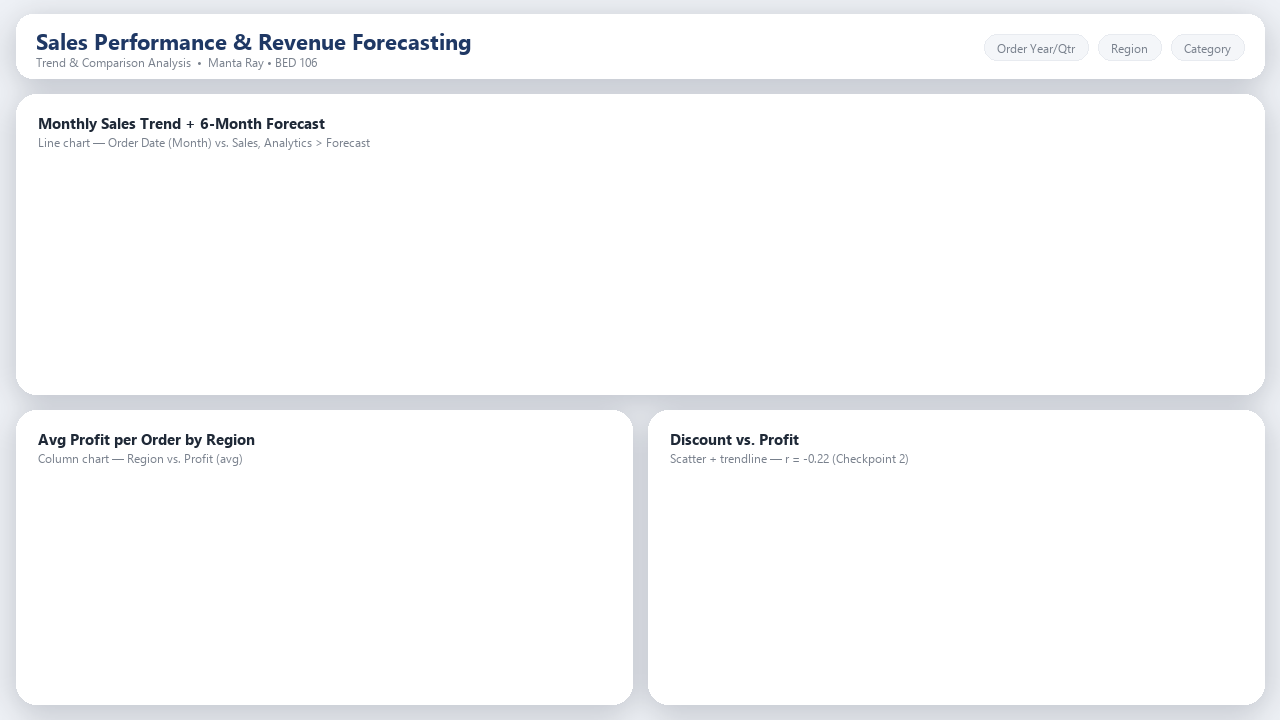

What the dashboard file says about the page in this screenshot:
{"tool":"powerbi","page":{"name":"Trend & Comparison","canvas":[1280,720],"ordinal":1},"visuals":[{"type":"lineChart","fields":{"Category":["Orders.MonthStart"],"Y":["Sum(Orders.Sales)"]},"box":[16.7,91.7,1246.7,303.3],"z":0},{"type":"clusteredColumnChart","fields":{"Category":["Orders.Region"],"Y":["Avg(Orders.Profit)"]},"box":[16.7,408.3,623.3,290],"z":1000},{"type":"scatterChart","fields":{"Series":["Orders.Order ID"],"X":["Avg(Orders.Discount)"],"Y":["Avg(Orders.Profit)"]},"box":[653.3,408.3,610,290],"z":2000},{"type":"shape","box":[21.7,11.7,1236.7,63.3],"z":3000},{"type":"textbox","box":[34.5,18.2,650.9,68.2],"z":3001},{"type":"slicer","fields":{"Values":["Orders.Order Date.Variation.Date Hierarchy.Year"]},"box":[962.5,27.5,91.8,47.3],"z":3002},{"type":"slicer","fields":{"Values":["Orders.Region"]},"box":[1053.8,28.8,91.8,47.3],"z":3003},{"type":"slicer","fields":{"Values":["Orders.Category"]},"box":[1146.2,27.5,91.8,47.3],"z":3004}]}

Visuals, with their boxes in screenshot pixels (x1, y1, x2, y2), scaled from the page's 1280x720 canvas onto the 1280x720 screenshot:
lineChart - Orders.MonthStart x Sum(Orders.Sales): BBox(17, 92, 1263, 395)
clusteredColumnChart - Orders.Region x Avg(Orders.Profit): BBox(17, 408, 640, 698)
scatterChart - Orders.Order ID x Avg(Orders.Discount): BBox(653, 408, 1263, 698)
shape: BBox(22, 12, 1258, 75)
textbox: BBox(34, 18, 685, 86)
slicer - Orders.Order Date.Variation.Date Hierarchy.Year: BBox(962, 28, 1054, 75)
slicer - Orders.Region: BBox(1054, 29, 1146, 76)
slicer - Orders.Category: BBox(1146, 28, 1238, 75)
